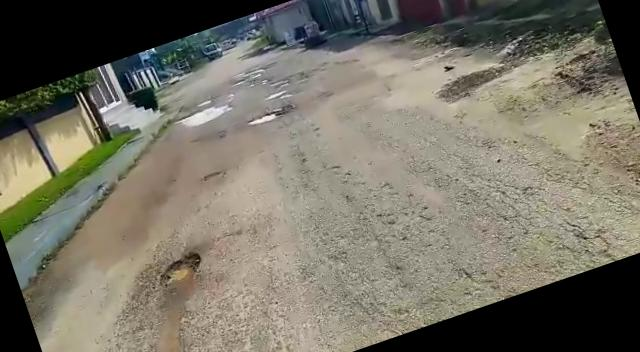pothole: (157, 251, 204, 290), (177, 98, 231, 129), (244, 106, 287, 130), (267, 86, 295, 100)
